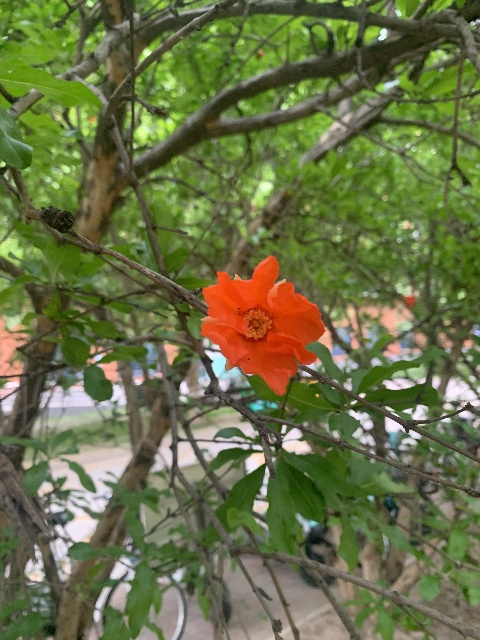flower: (199, 254, 325, 396)
